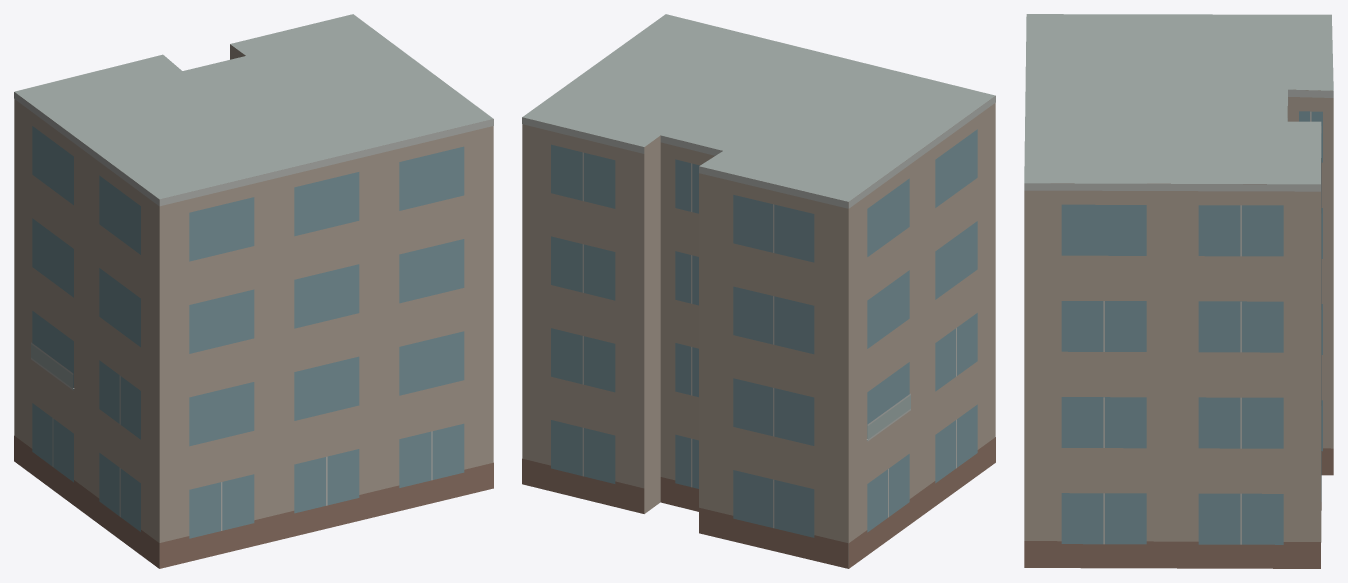
Rendered from survey-upis-32607845.glb.
3 renders of one model, left to right at view 1: azimuth 30°, elevation 25°; view 2: azimuth 150°, elevation 25°; view 3: azimuth 270°, elevation 25°, orthographic. The views are drawn at different scales.
Parts seen in each view (by area): view 1: survey-upis-32607845.tmp; view 2: survey-upis-32607845.tmp; view 3: survey-upis-32607845.tmp.
Part boxes in pixels (x1,y1,x2,y2): survey-upis-32607845.tmp: (14,14,493,568); survey-upis-32607845.tmp: (522,14,995,568); survey-upis-32607845.tmp: (1024,14,1333,568).
Bounding box in the file's own units: 12.27 × 12.9 × 9.42.
